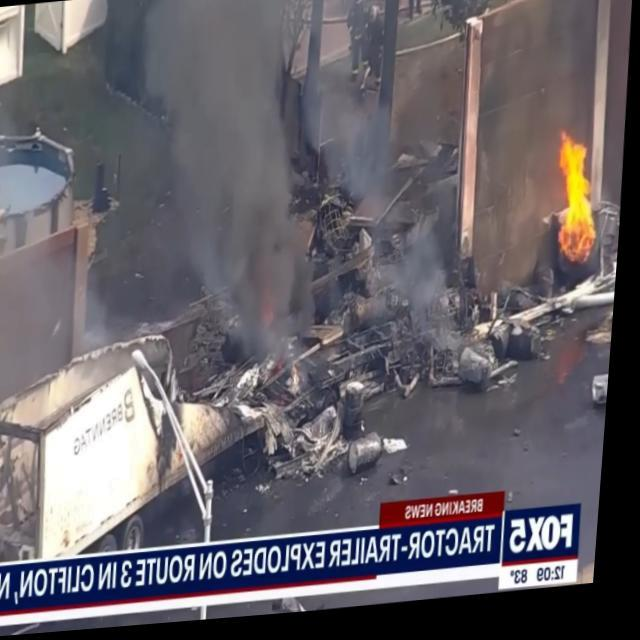fire: (545, 124, 609, 276)
